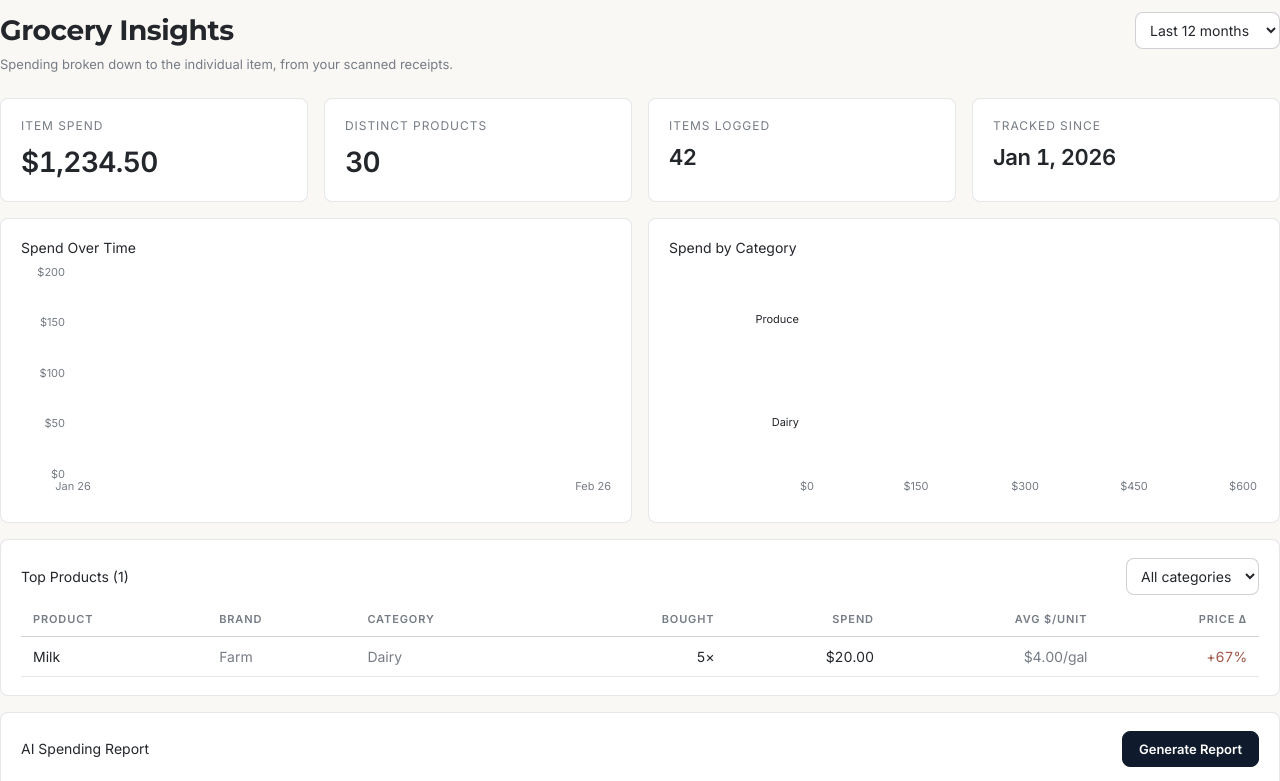
GroceryAnalysis page › opens a product with no per-unit history (shows the note)
This screenshot has width=1280, height=781.
Click the text "Milk". click: point(114, 656)
box: [21,636,207,676]
(page scrolled)
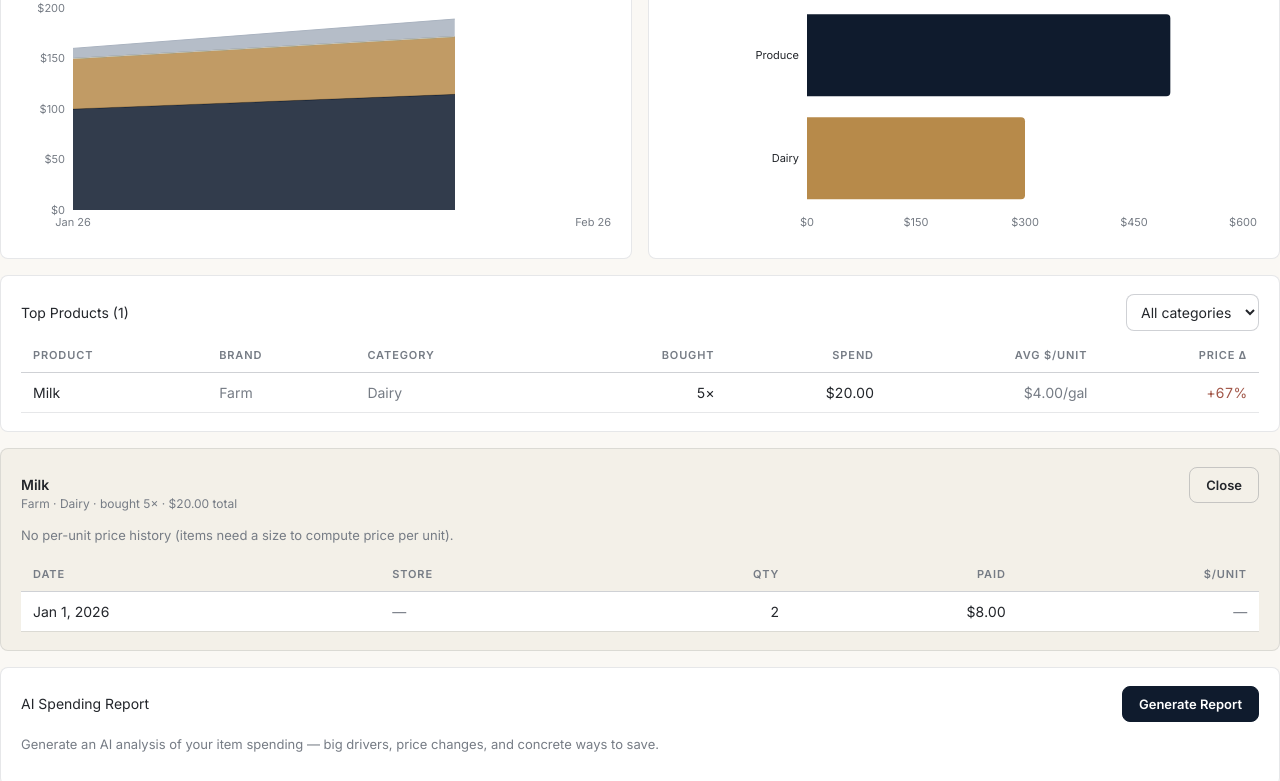
Check: the text "No per-unit price history" is shown, box [21,526,454,542]
